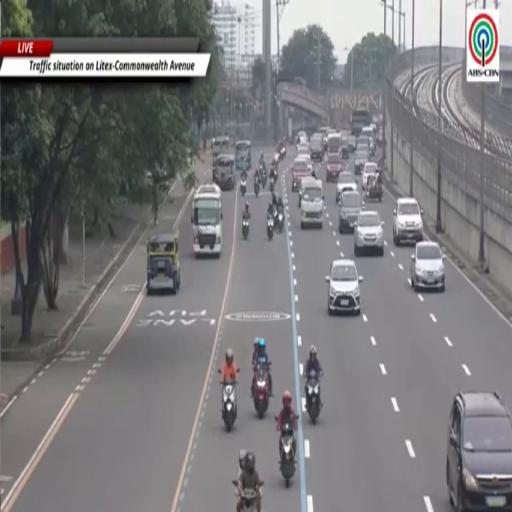bus: (192, 184, 222, 255), (351, 110, 372, 136), (327, 133, 341, 155)
car: (446, 391, 511, 510), (325, 260, 363, 314), (411, 240, 445, 291), (393, 198, 423, 246), (354, 211, 383, 257), (339, 190, 361, 233), (336, 172, 357, 203), (326, 154, 341, 182), (310, 133, 324, 162), (362, 163, 377, 189), (354, 149, 369, 174), (296, 154, 312, 173), (357, 135, 371, 153), (296, 132, 308, 146), (347, 135, 356, 153), (297, 142, 309, 155)
jeepney: (147, 231, 180, 294), (213, 154, 235, 189), (212, 136, 229, 163), (236, 141, 251, 171)
motorcycle: (252, 365, 270, 419), (280, 423, 295, 487), (306, 372, 321, 424), (222, 382, 236, 431), (240, 482, 263, 511), (266, 214, 275, 240), (260, 166, 267, 188), (277, 211, 284, 232), (242, 217, 248, 239), (273, 208, 278, 232), (240, 178, 246, 196), (273, 152, 280, 165), (254, 181, 259, 197), (270, 178, 275, 193), (280, 147, 286, 159)
